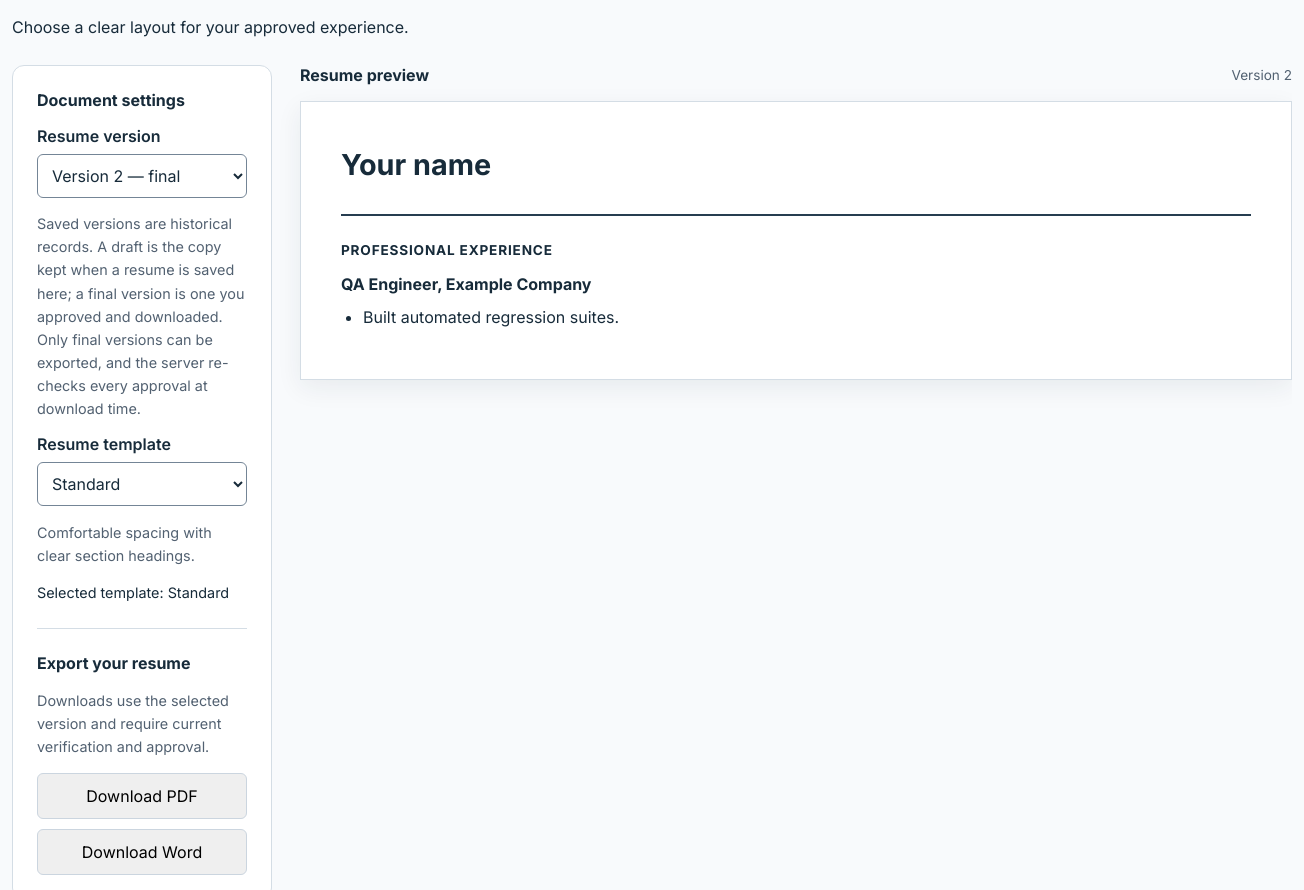
Scenario: F10 ResumePage › displays an error when the backend rejects an export
(page scrolled)
Click the button "Download PDF" at (142, 796), box [37,773,247,819]
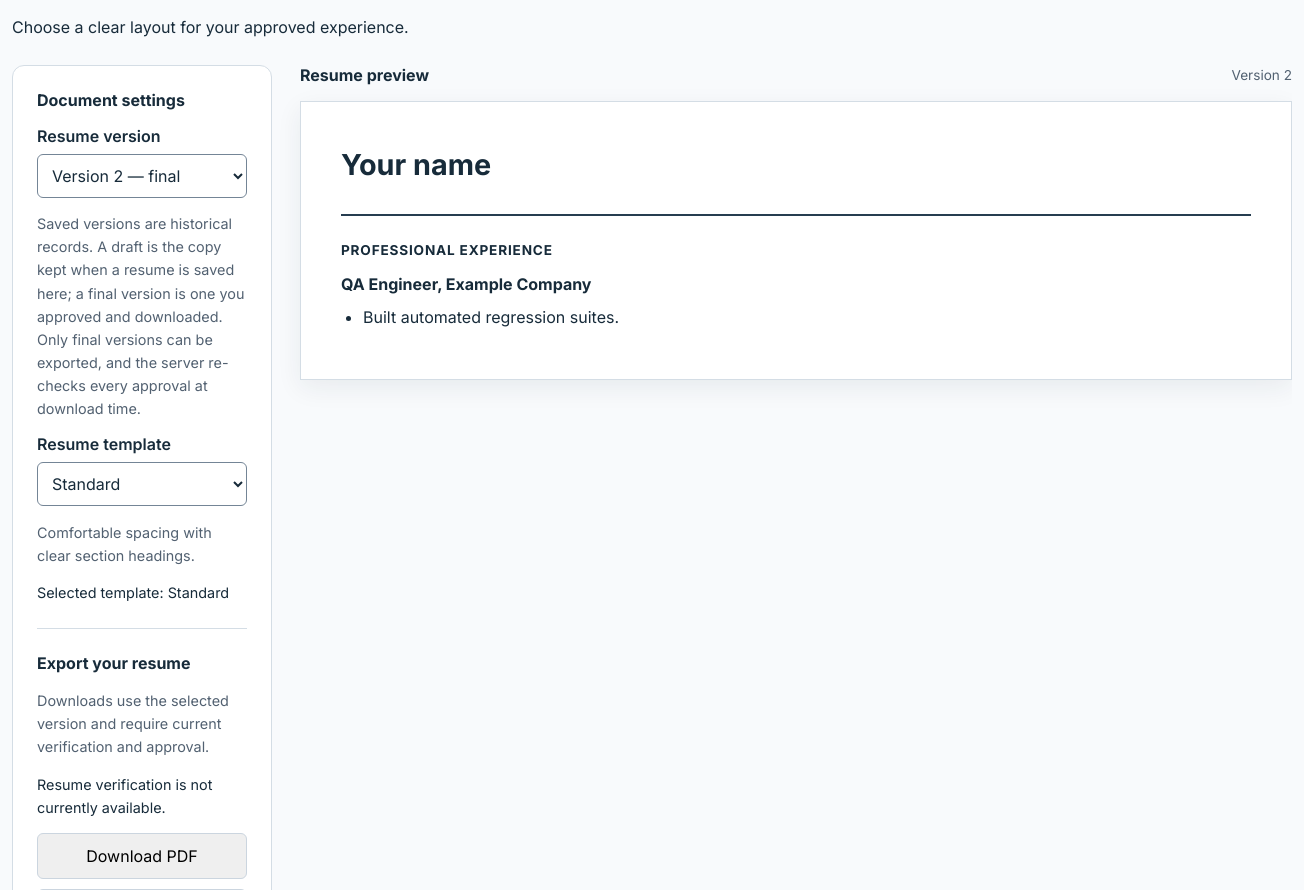
Now the message reads "Resume verification is not currently available.", box [37,776,212,816]
